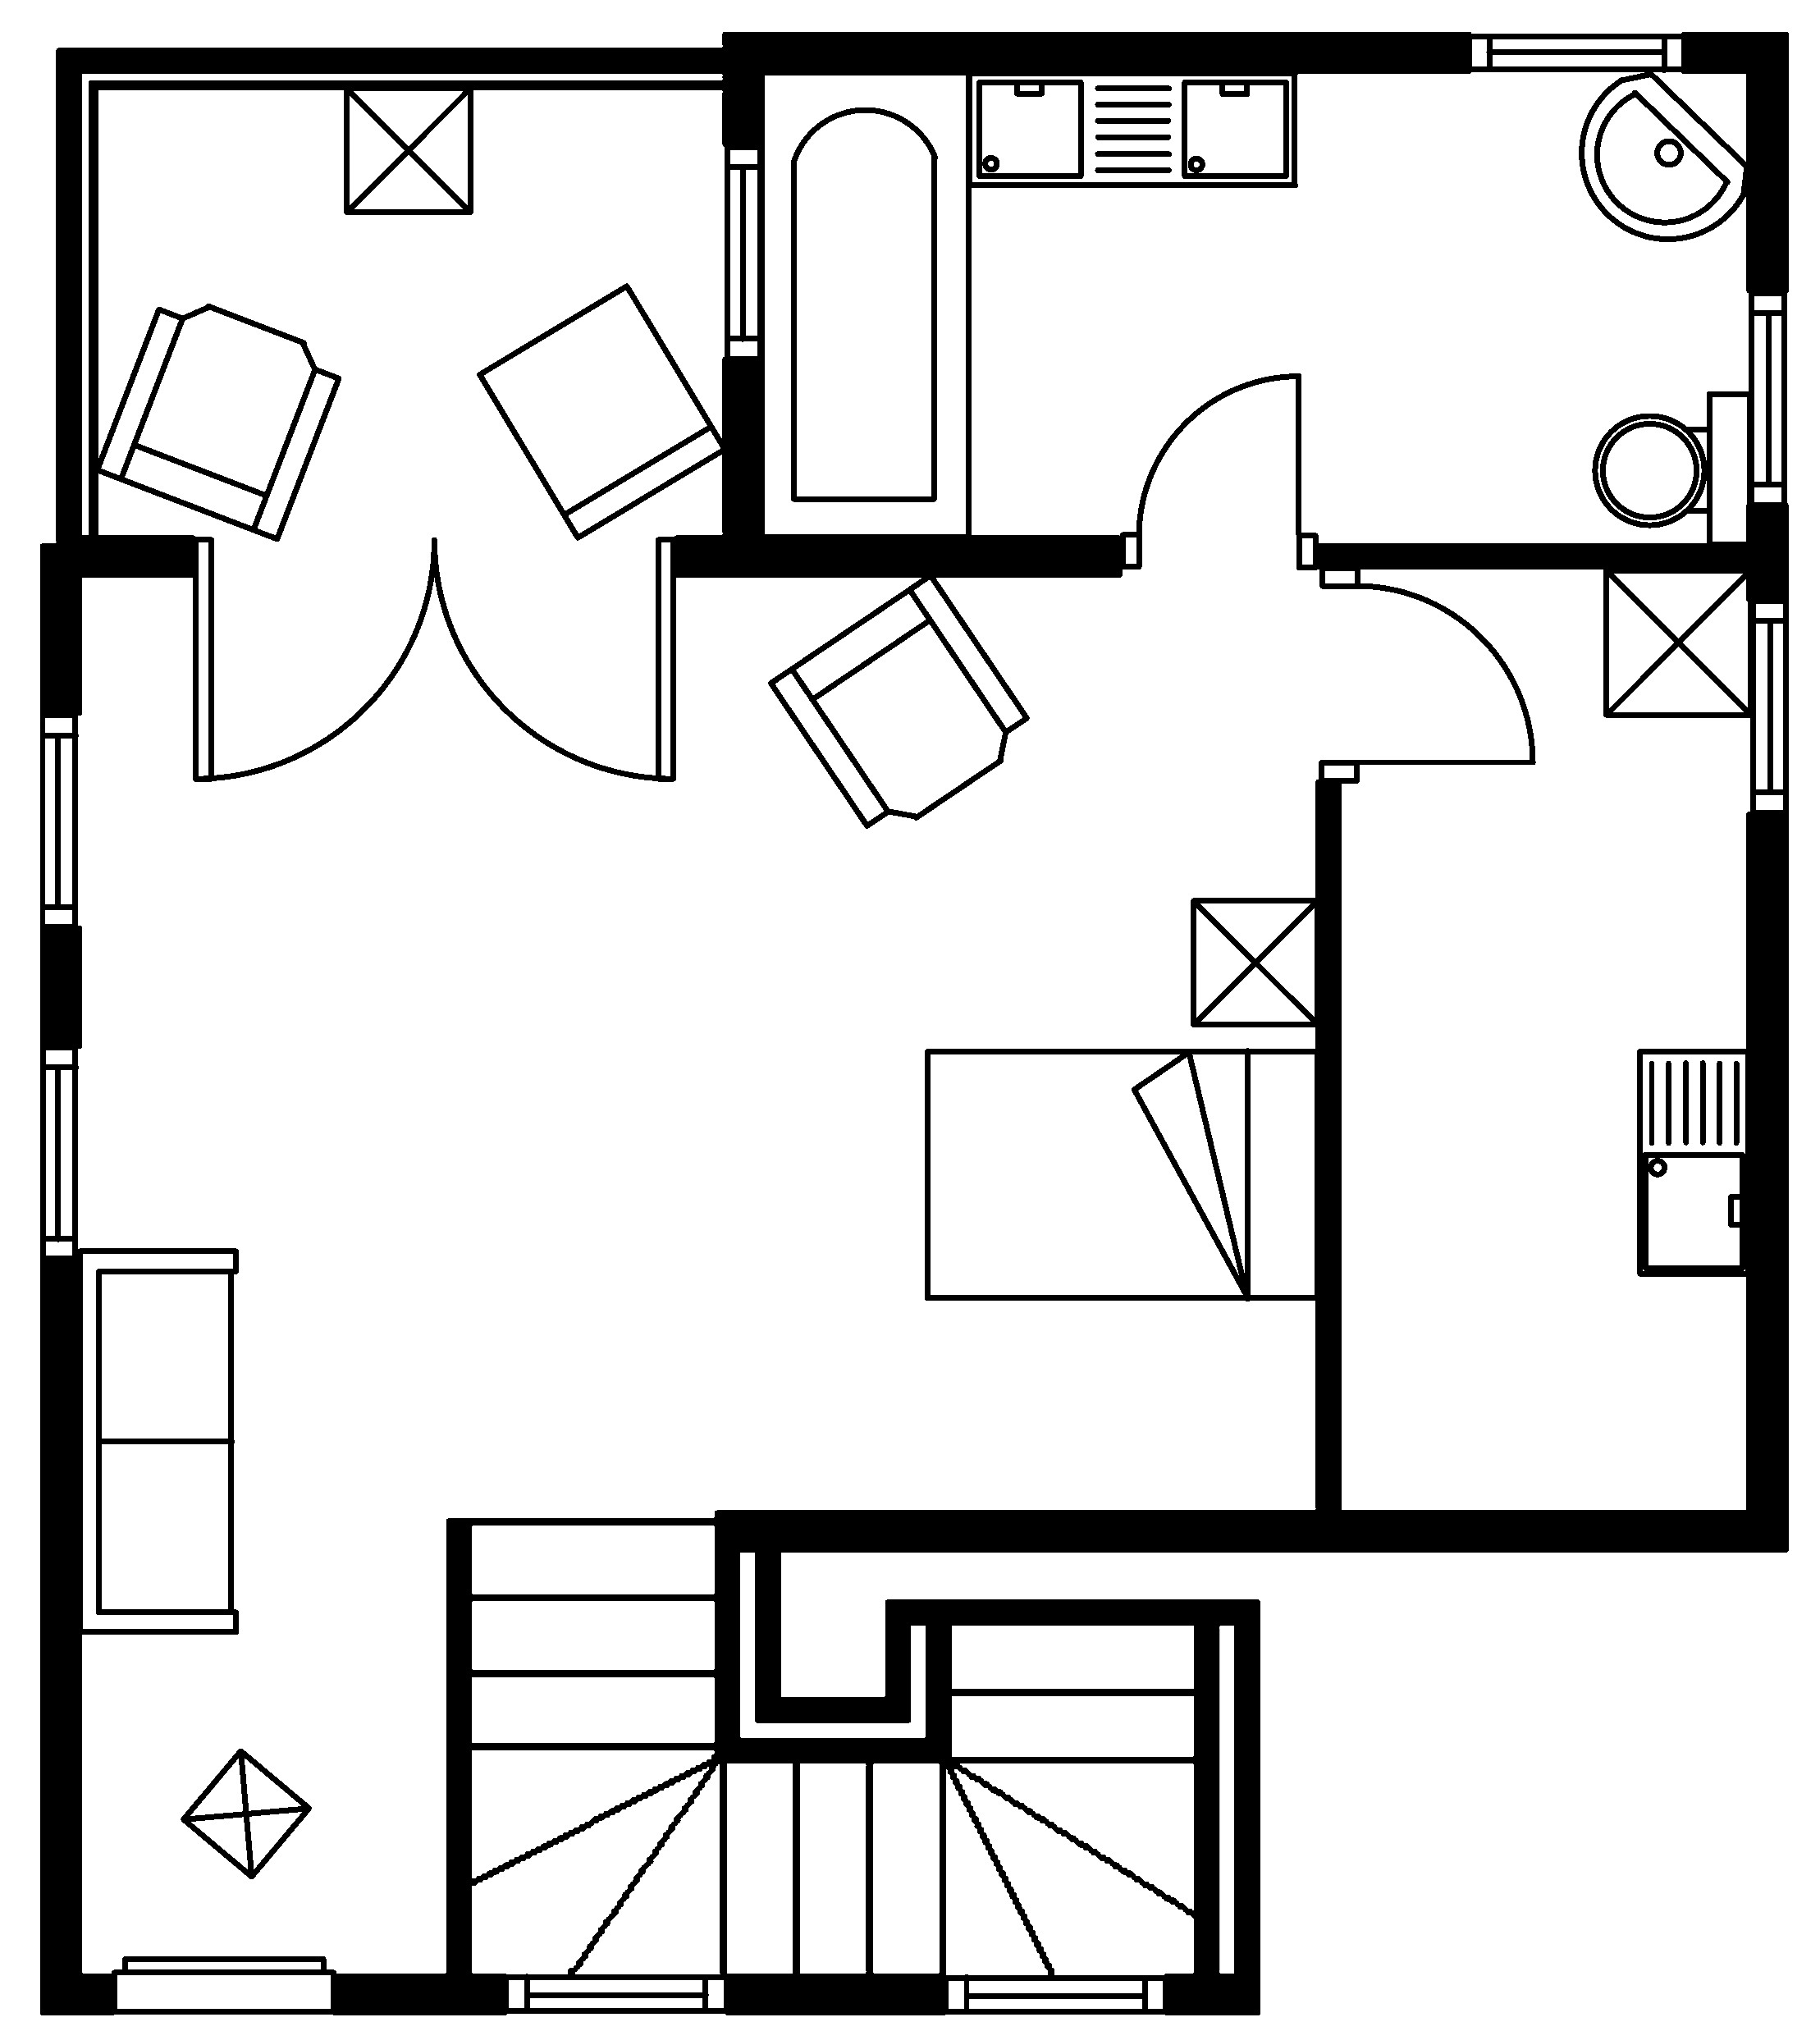armchair: (766, 571, 1029, 829), (93, 302, 341, 543)
bed: (922, 1047, 1321, 1302)
coffee_table: (1602, 566, 1753, 719), (179, 1746, 311, 1880), (1189, 896, 1321, 1028), (343, 84, 474, 214)
large_sink: (1592, 388, 1753, 548)
large_sofa: (76, 1246, 239, 1634)
sink: (1636, 1047, 1751, 1277)
small_sink: (1578, 70, 1750, 241)
small_sofa: (474, 281, 727, 541)
tub: (757, 69, 971, 539)
twin_sink: (964, 69, 1298, 188)
